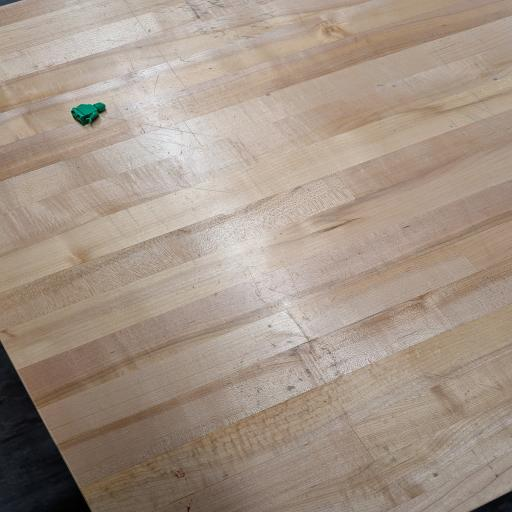Minifig: (71, 103, 105, 125)
